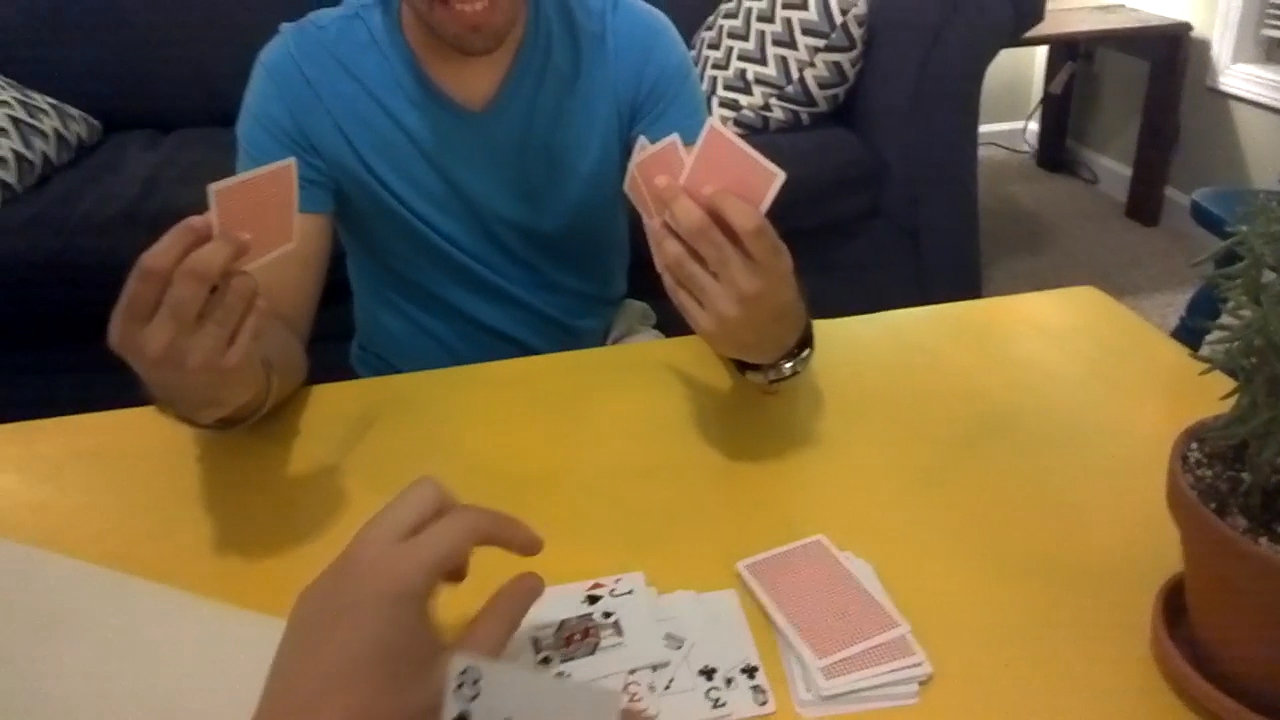hand: (273, 484, 543, 717), (110, 211, 256, 427), (651, 179, 807, 357)
